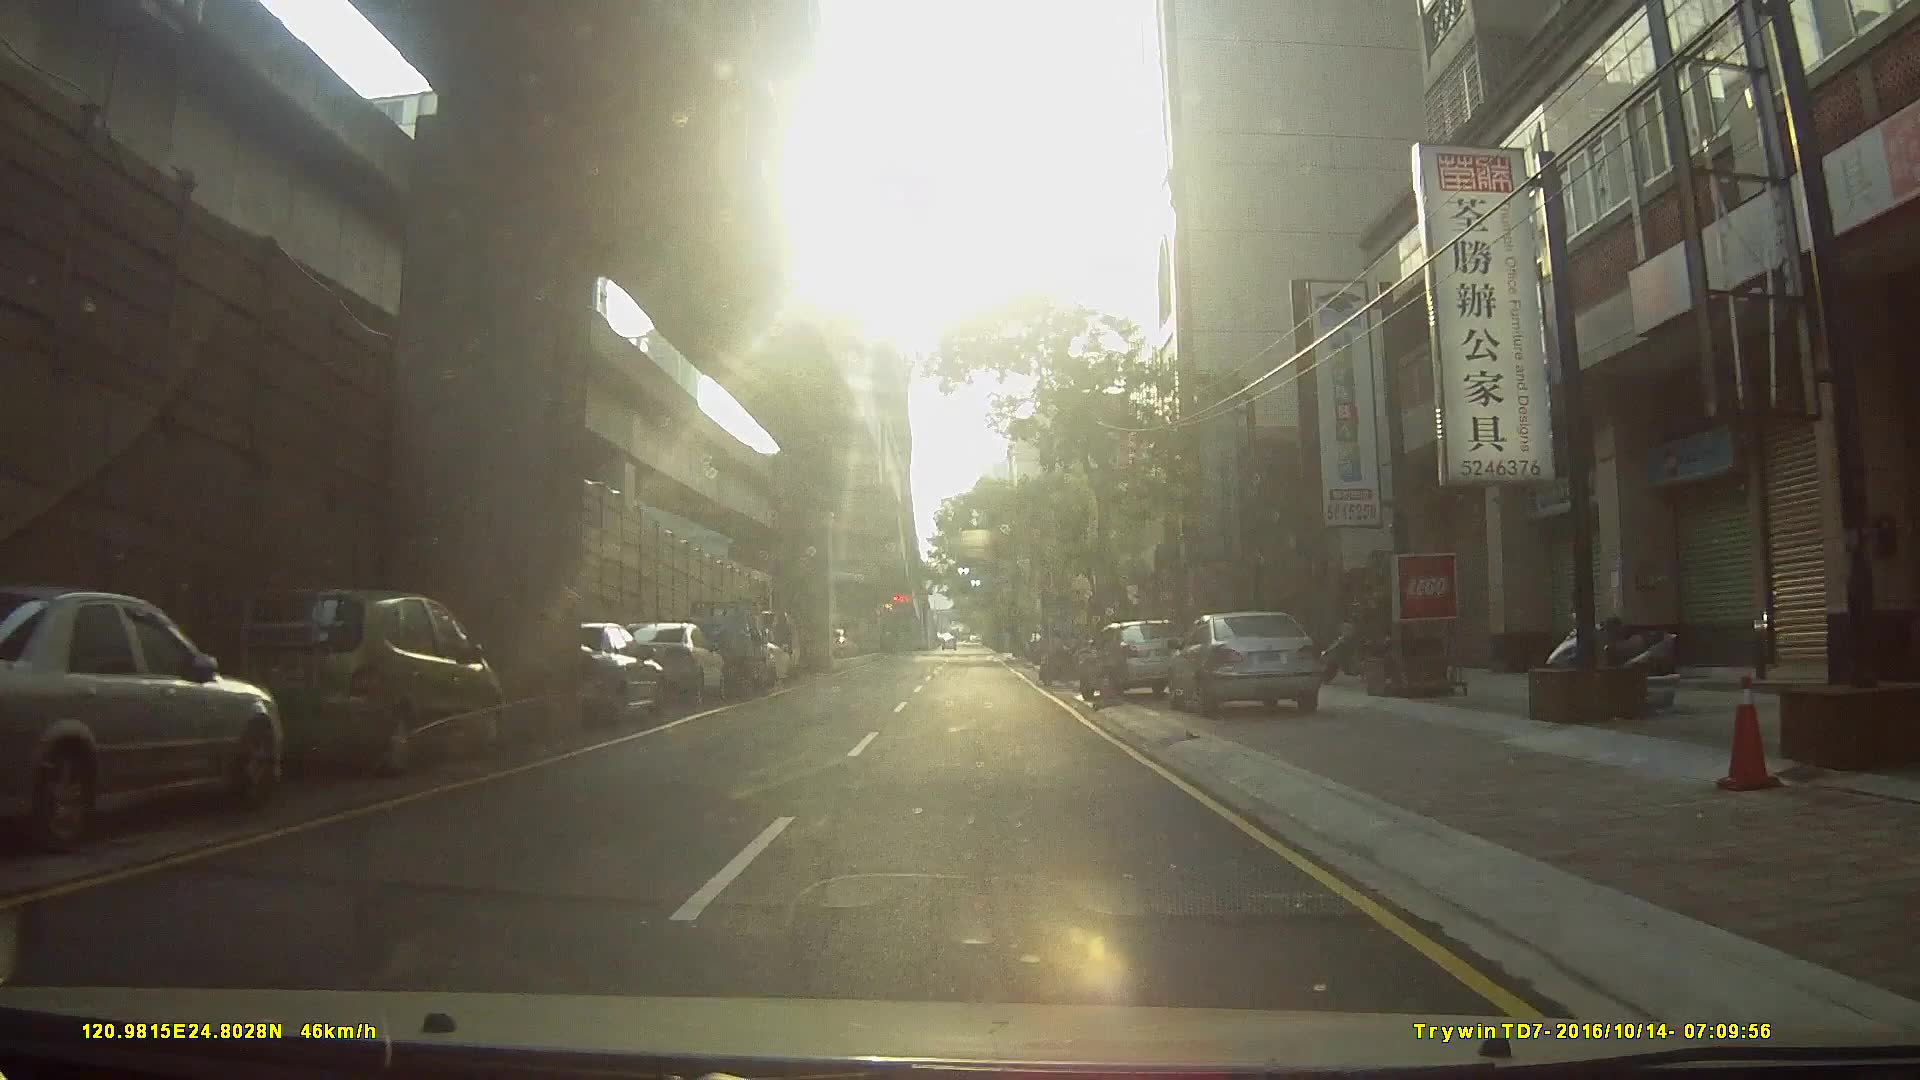rider: (1037, 626, 1086, 684)
vehicle: (1, 573, 285, 842), (193, 584, 500, 784), (1166, 608, 1329, 718), (524, 617, 664, 733), (673, 596, 770, 695), (612, 620, 726, 701), (1078, 617, 1190, 700)
